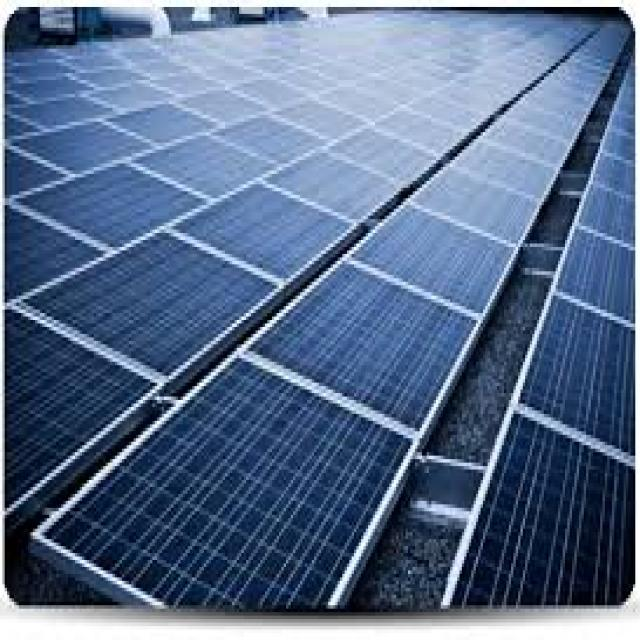clean-solar-panel: (6, 15, 599, 521)
